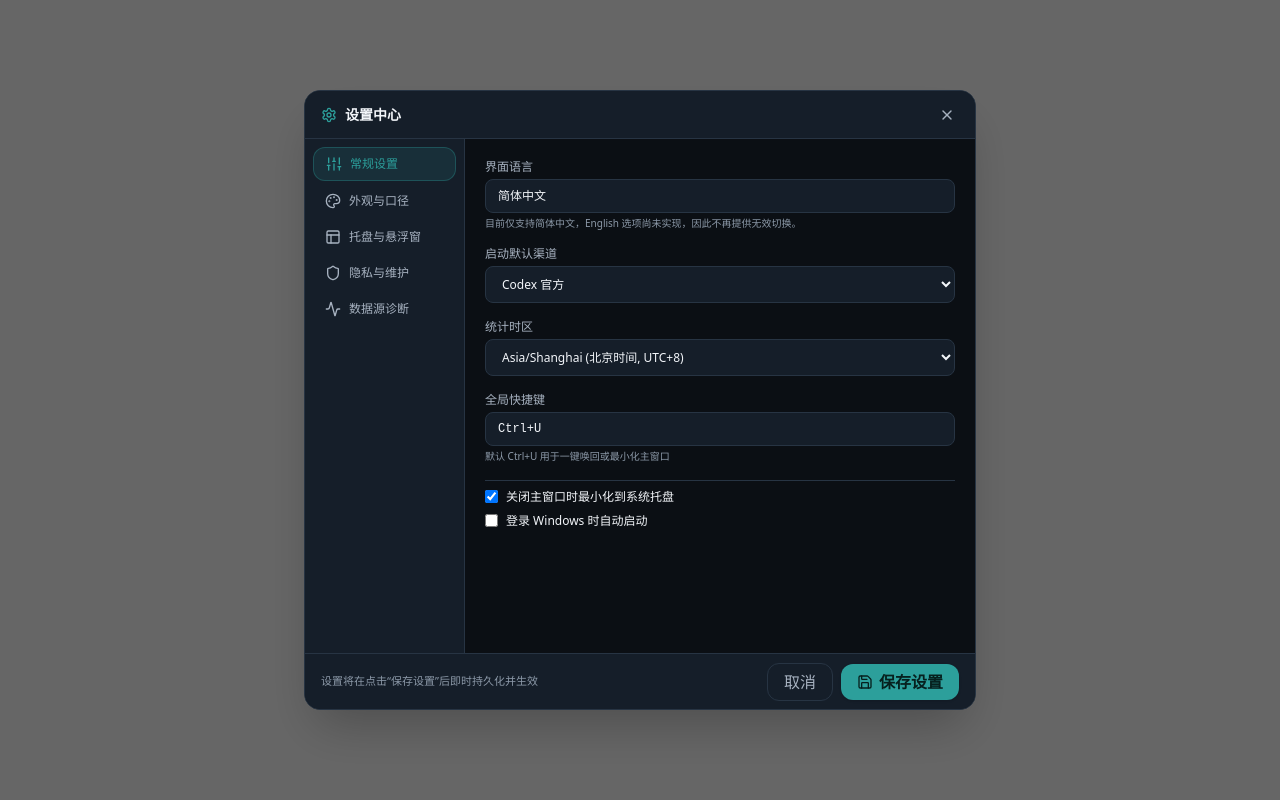
SettingsModal save & widget-apply flow › reports a partial failure when only the widget apply fails
Click the tab "托盘与悬浮窗". click: (384, 237)
box: x1=313 y1=221 x2=456 y2=253
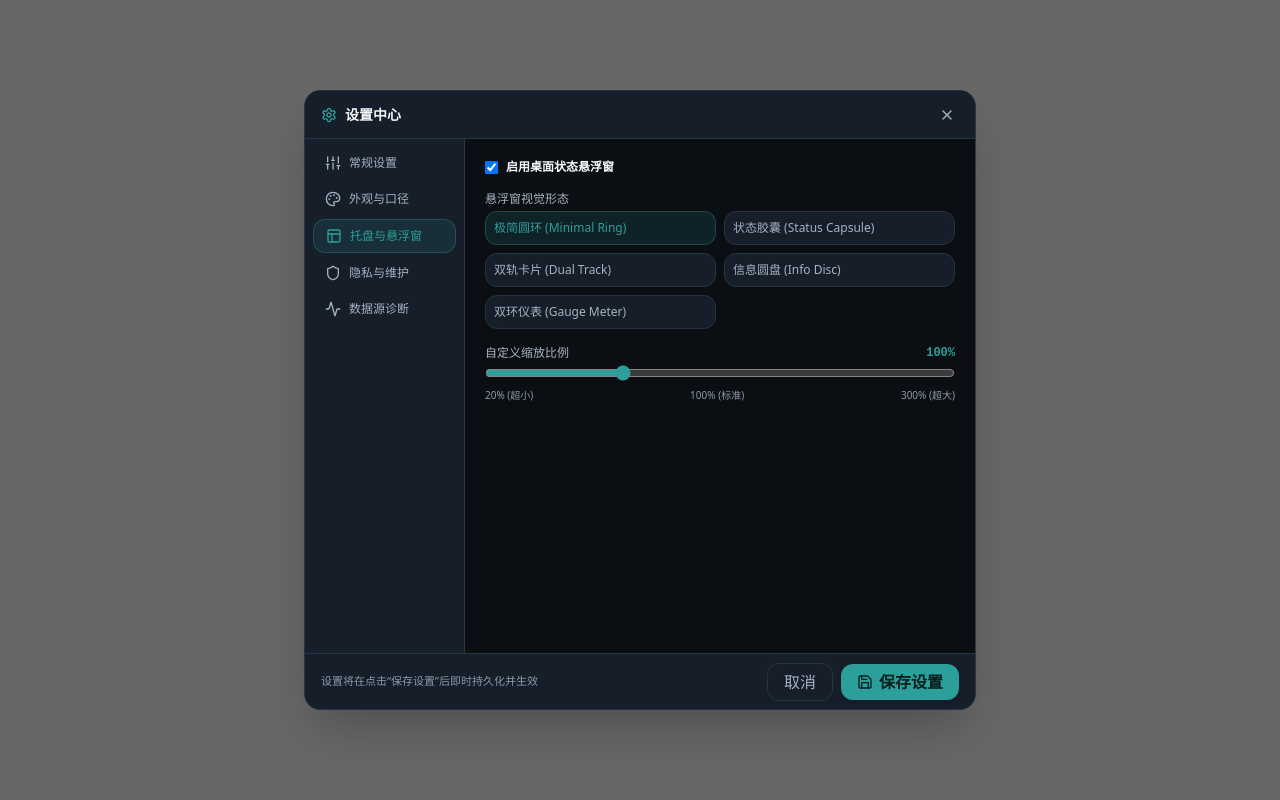
Set the slider labelled "自定义缩放比例" to "2.0". click: (785, 373)
box: x1=485 y1=365 x2=955 y2=381
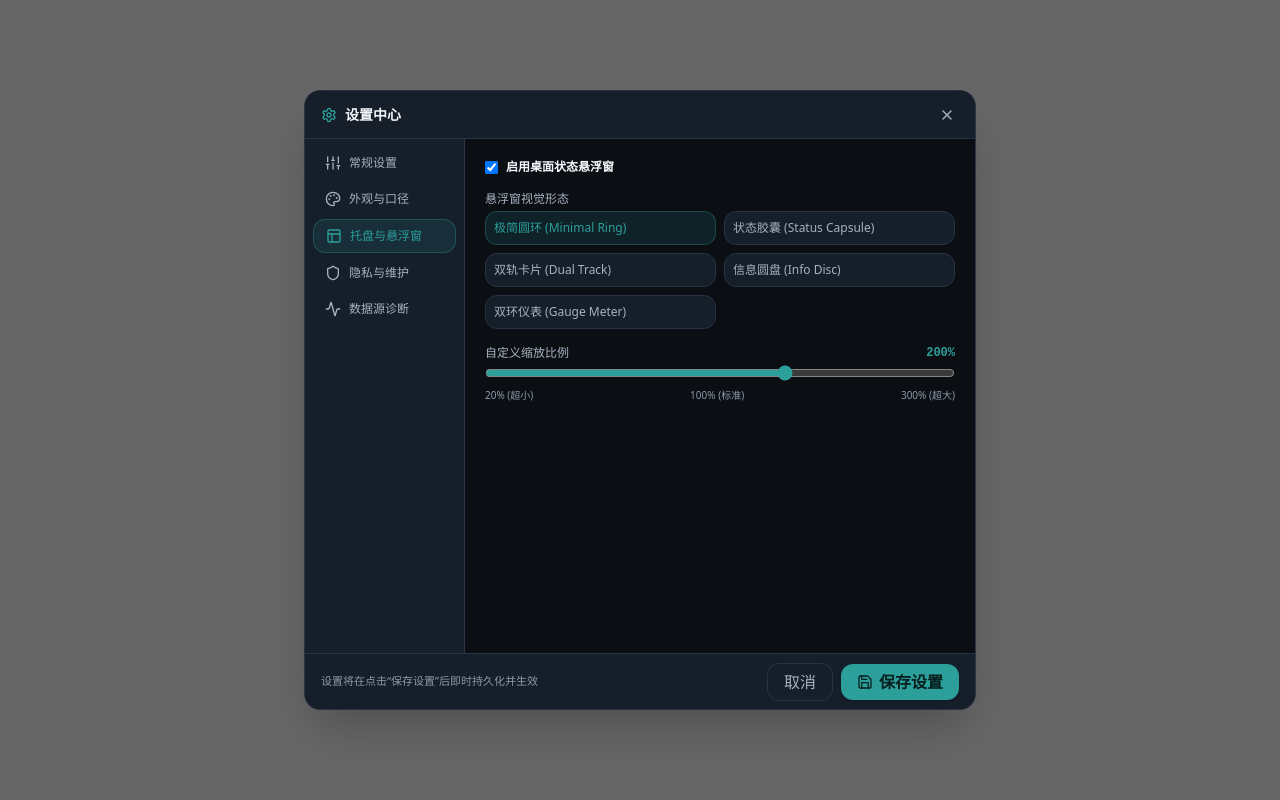
Click the button "保存设置". click: (900, 682)
box: x1=841 y1=664 x2=959 y2=700
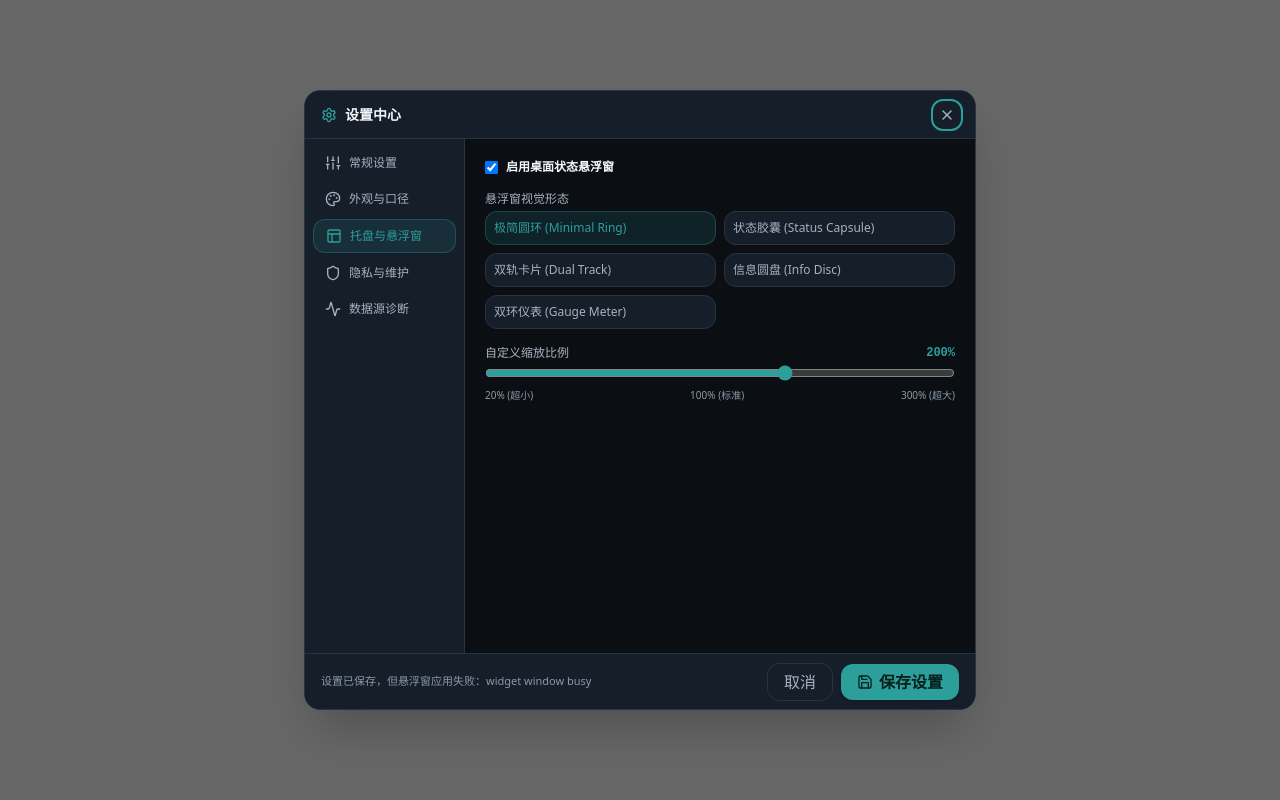
Now the message shows "设置已保存", box x1=321 y1=673 x2=592 y2=688
Now the message shows "悬浮窗应用失败", box x1=321 y1=673 x2=592 y2=688
